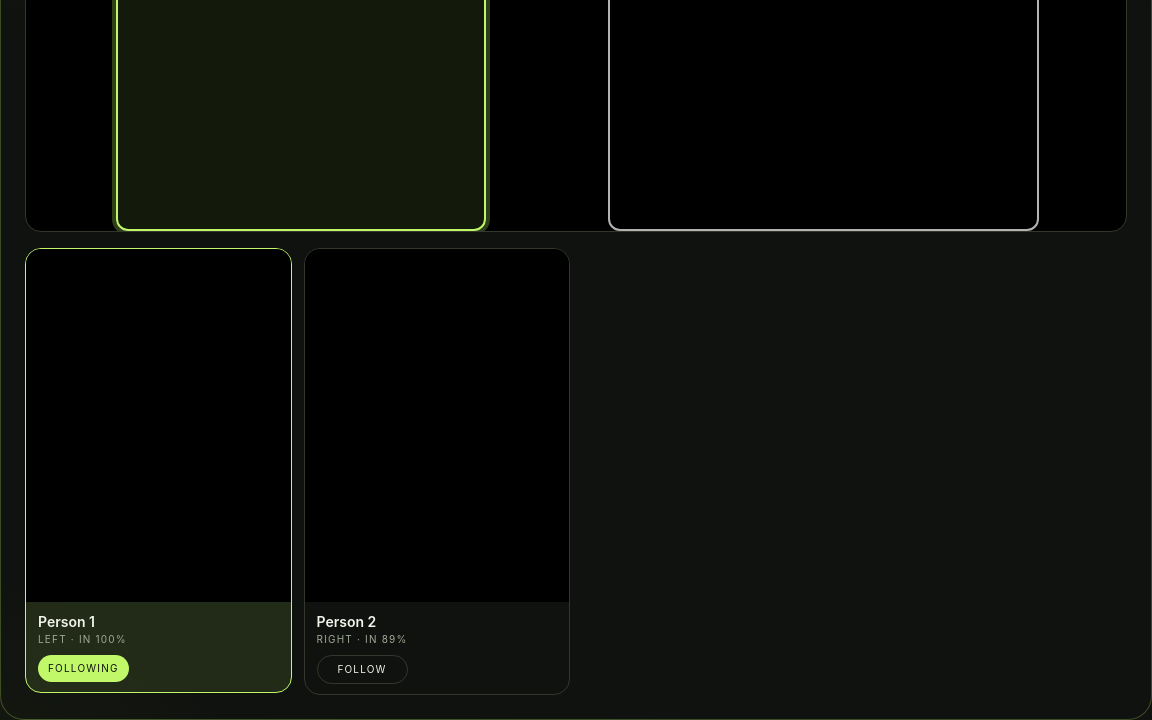
SubjectPicker › marks the current choice and shows server errors (e.g. LIMITED)
The width and height of the screenshot is (1152, 720).
(page scrolled)
Click the button with test id "subject-person-2" at (437, 471), box [304,248,570,695]
(page scrolled)
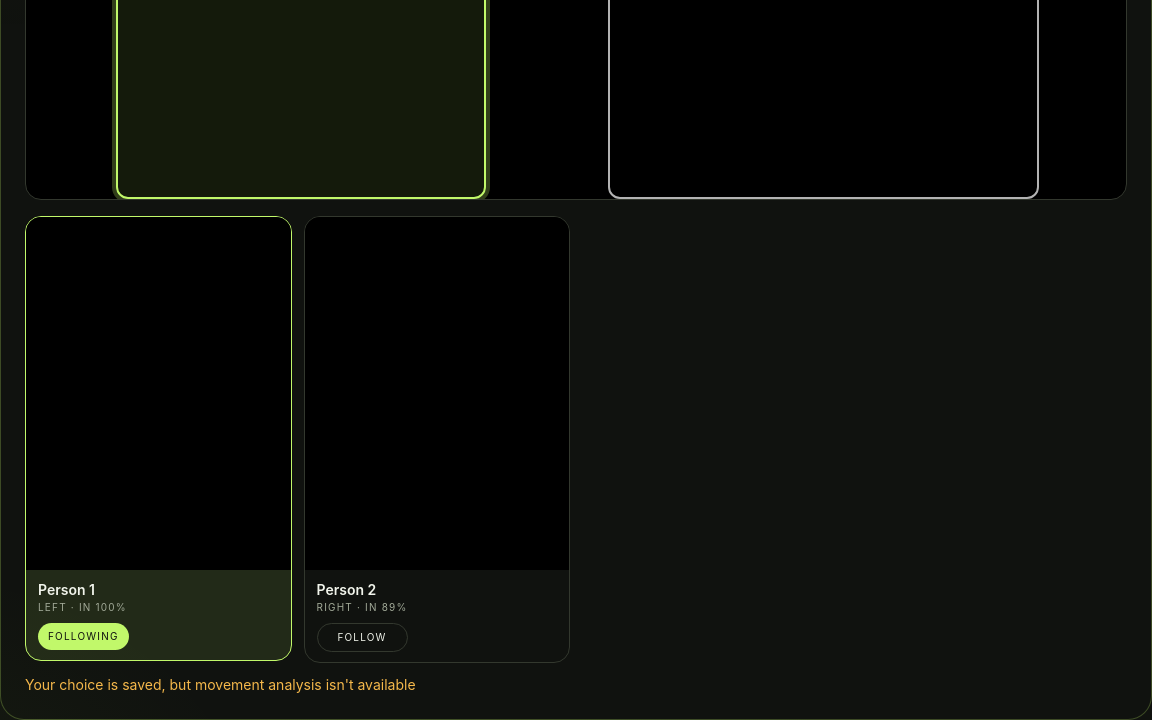
Result: the message shows "choice is saved" at [25,676,416,692]
